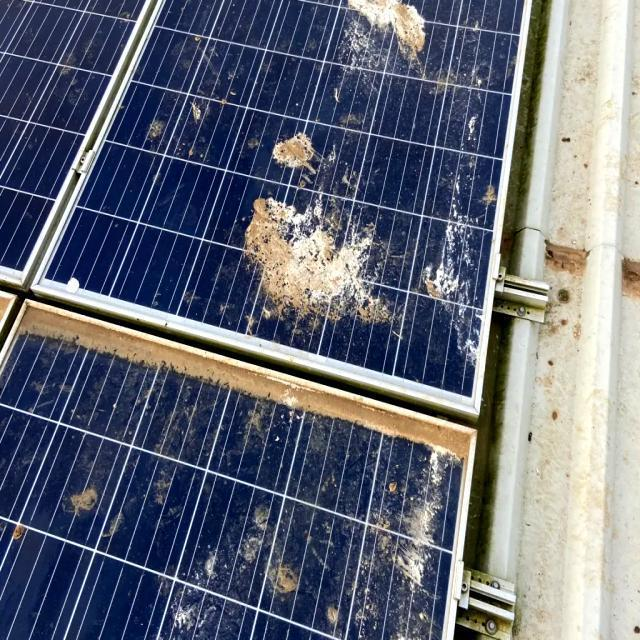soiled: (3, 1, 529, 416), (3, 313, 464, 640)
